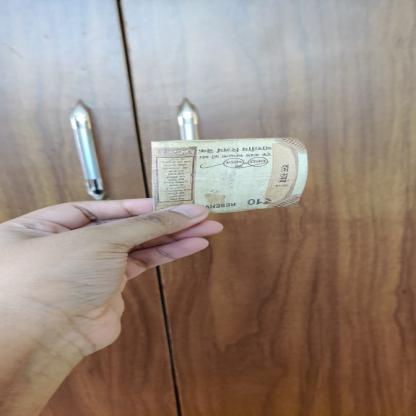New10Back: (150, 135, 312, 215)
